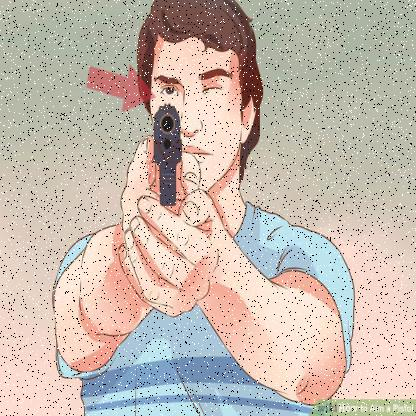pistol: (153, 101, 184, 208)
